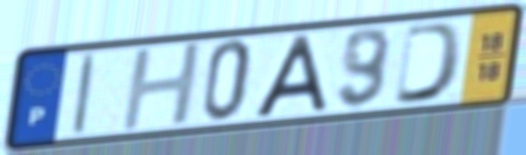0: (202, 37, 260, 125)
9: (334, 24, 390, 112)
A: (250, 31, 332, 121)
D: (390, 19, 467, 107)
H: (117, 39, 206, 135)
I: (69, 49, 99, 139)
